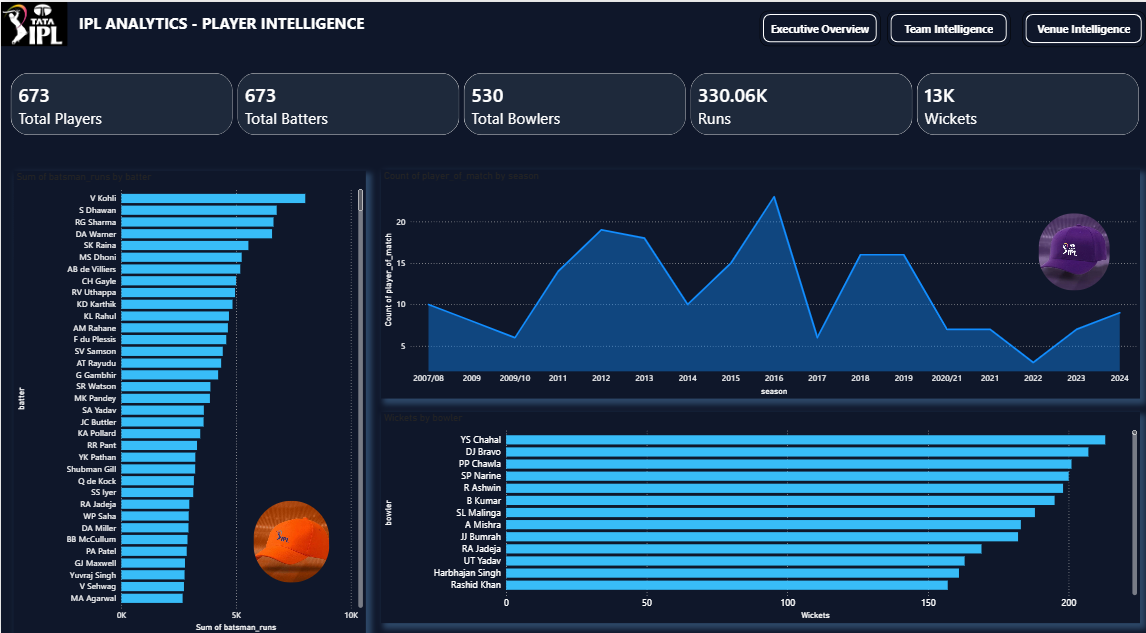

What the dashboard file says about the page in this screenshot:
{"tool":"powerbi","page":{"name":"Player Intelligence ","canvas":[2000,1100],"ordinal":2},"visuals":[{"type":"actionButton","box":[1541.4,14.3,214.3,61.4],"z":0},{"type":"actionButton","box":[1775.7,14.3,214.3,62.9],"z":1000},{"type":"image","box":[0,0,115,76.7],"z":2000},{"type":"textbox","box":[130,14,514,48],"z":3000},{"type":"cardVisual","fields":{"Data":["ipl_analytics deliveries.Total Players","ipl_analytics deliveries.Total Batters","ipl_analytics deliveries.Total Bowlers","ipl_analytics deliveries.Runs","ipl_analytics deliveries.Wickets"]},"box":[0,106,2000,142],"z":4000},{"type":"clusteredBarChart","fields":{"Category":["ipl_analytics deliveries.batter"],"Y":["Sum(ipl_analytics deliveries.batsman_runs)"]},"box":[21.4,292.9,612.9,807.1],"z":5000},{"type":"clusteredBarChart","fields":{"Category":["ipl_analytics deliveries.bowler"],"Y":["ipl_analytics deliveries.Wickets"]},"box":[660,712.5,1320,367.5],"z":6000},{"type":"areaChart","fields":{"Category":["ipl_analytics matches.season","ipl_analytics matches.player_of_match"],"Y":["CountNonNull(ipl_analytics matches.player_of_match)"]},"box":[660,292,1320,398],"z":7000},{"type":"actionButton","box":[1320,14.3,210,61.4],"z":8000},{"type":"image","box":[440,868,132,142],"z":12000},{"type":"image","box":[1804,368,124,134],"z":13000}]}

Visuals, with their boxes in screenshot pixels (x1, y1, x2, y2), scaled from the page's 2000x1100 canvas onto the 1146x633 screenshot:
actionButton: crop(883, 8, 1006, 44)
actionButton: crop(1017, 8, 1140, 44)
image: crop(0, 0, 66, 44)
textbox: crop(74, 8, 369, 36)
cardVisual - ipl_analytics deliveries.Total Players x ipl_analytics deliveries.Total Batters: crop(0, 61, 1145, 143)
clusteredBarChart - ipl_analytics deliveries.batter x Sum(ipl_analytics deliveries.batsman_runs): crop(12, 169, 363, 632)
clusteredBarChart - ipl_analytics deliveries.bowler x ipl_analytics deliveries.Wickets: crop(378, 410, 1135, 621)
areaChart - ipl_analytics matches.season x ipl_analytics matches.player_of_match: crop(378, 168, 1135, 397)
actionButton: crop(756, 8, 877, 44)
image: crop(252, 499, 328, 581)
image: crop(1034, 212, 1105, 289)
